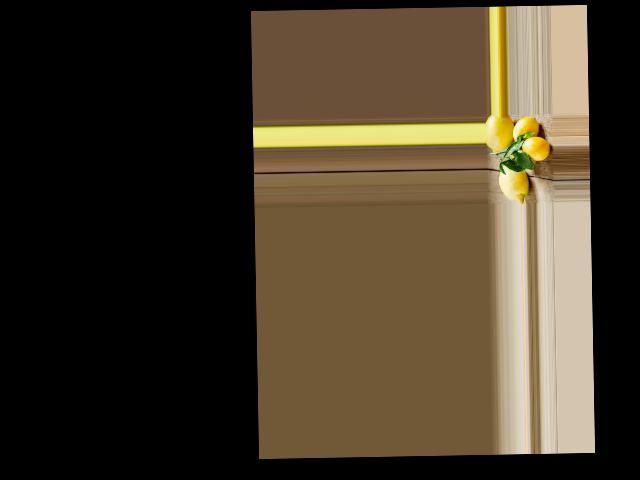lemon: (497, 157, 533, 203)
